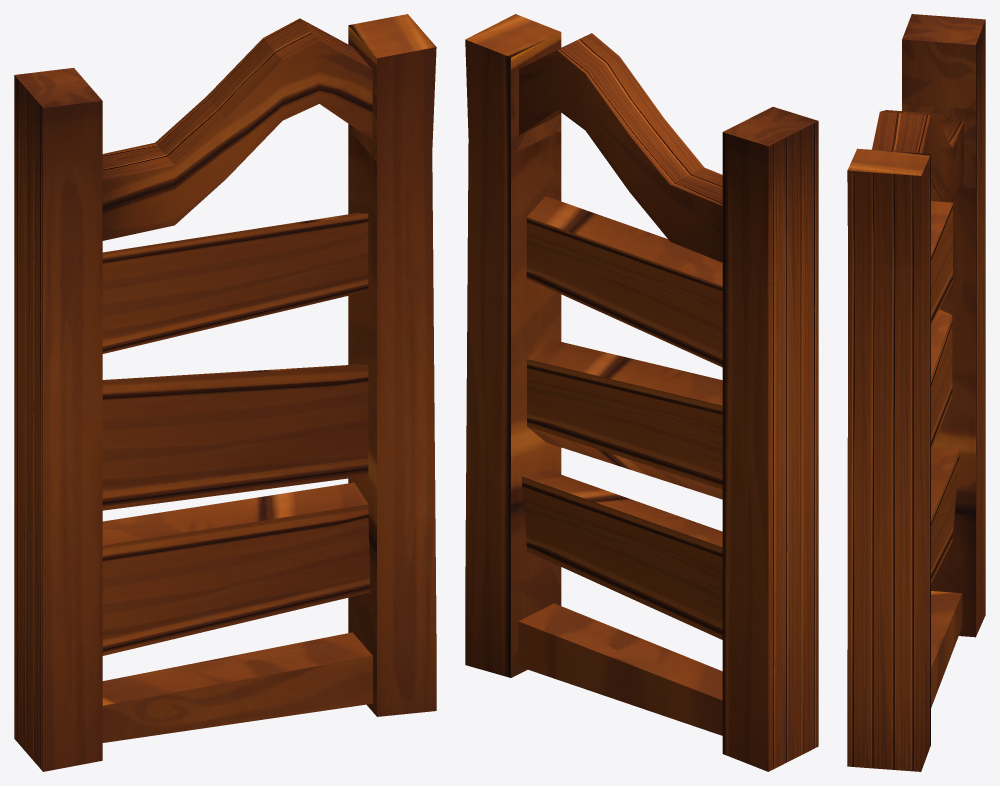
Rendered from izquierda.fbx.
The picture shows the model from 3 angles, left to right: view 1: azimuth 30°, elevation 25°; view 2: azimuth 150°, elevation 25°; view 3: azimuth 270°, elevation 25°; orthographic projection. The views are drawn at different scales.
Visible parts, largest first — view 1: puerta izquierda; view 2: puerta izquierda; view 3: puerta izquierda.
Boxes of the visible parts, bbox=[...] form: puerta izquierda: bbox=[14, 14, 436, 771]; puerta izquierda: bbox=[465, 14, 818, 771]; puerta izquierda: bbox=[847, 14, 985, 771].
Size of the model in its own units: 65.07 by 114 by 23.45.
